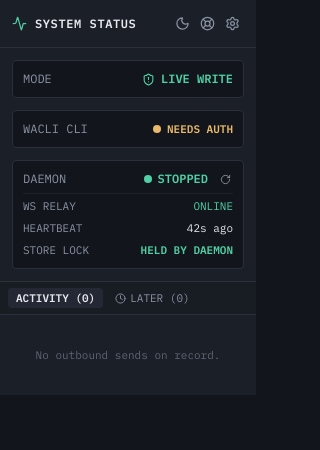
Test: StatusStrip sleep mode › says why a switch failed instead of doing nothing
Click the button named "sleep mode" at {"x": 182, "y": 24}, box 171,12 -> 194,35
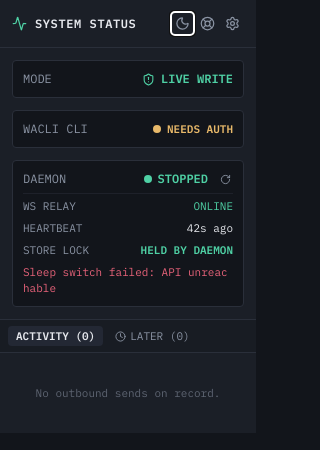
Expected: the text "Sleep switch failed: API unreachable" is shown, 23,264 -> 233,296
